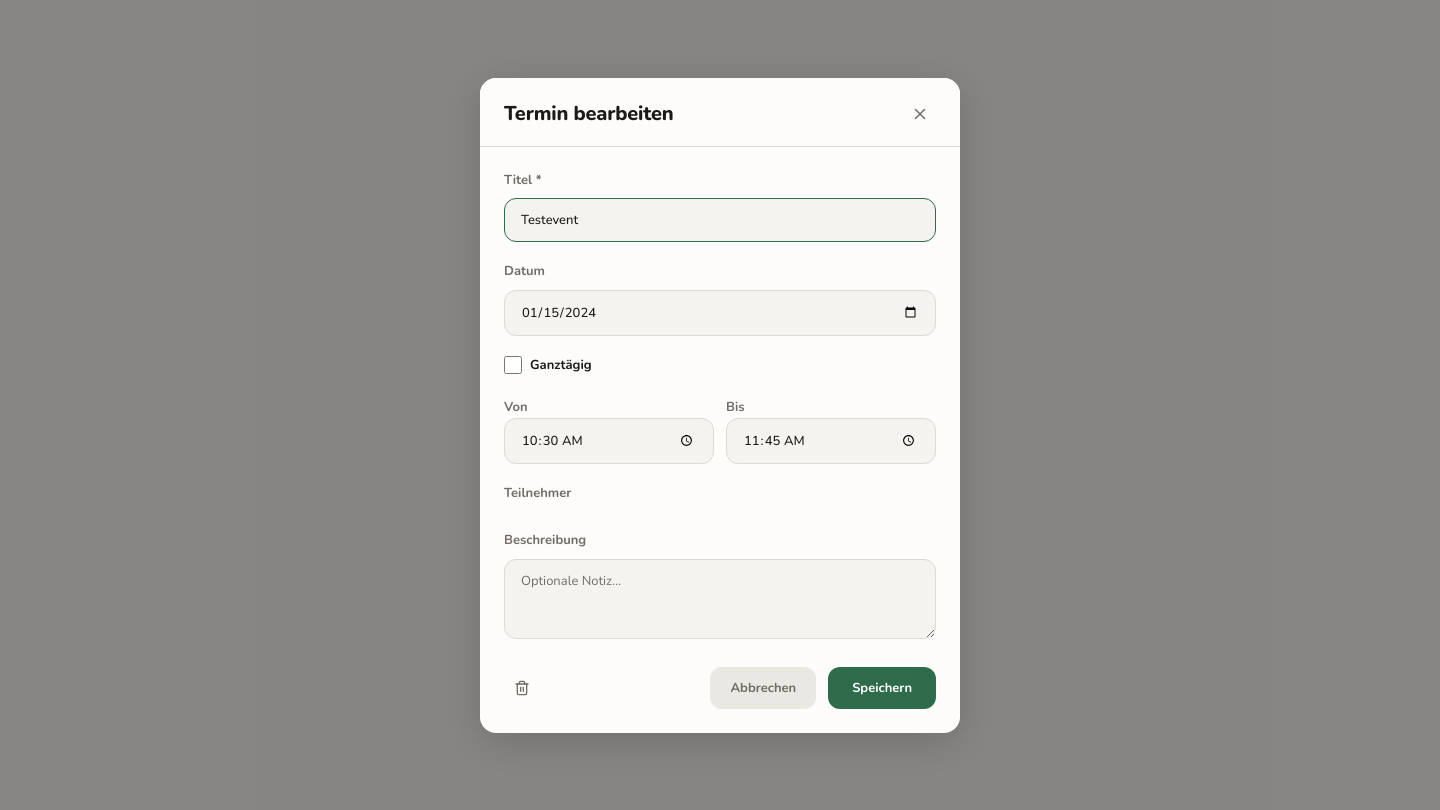
Scenario: EventFormModal — Termin löschen › löscht nichts und zeigt den Löschen-Button wieder, wenn die Bestätigung abgebrochen wird
Click the button named "Termin löschen" at (522, 688), box [504,670,540,706]
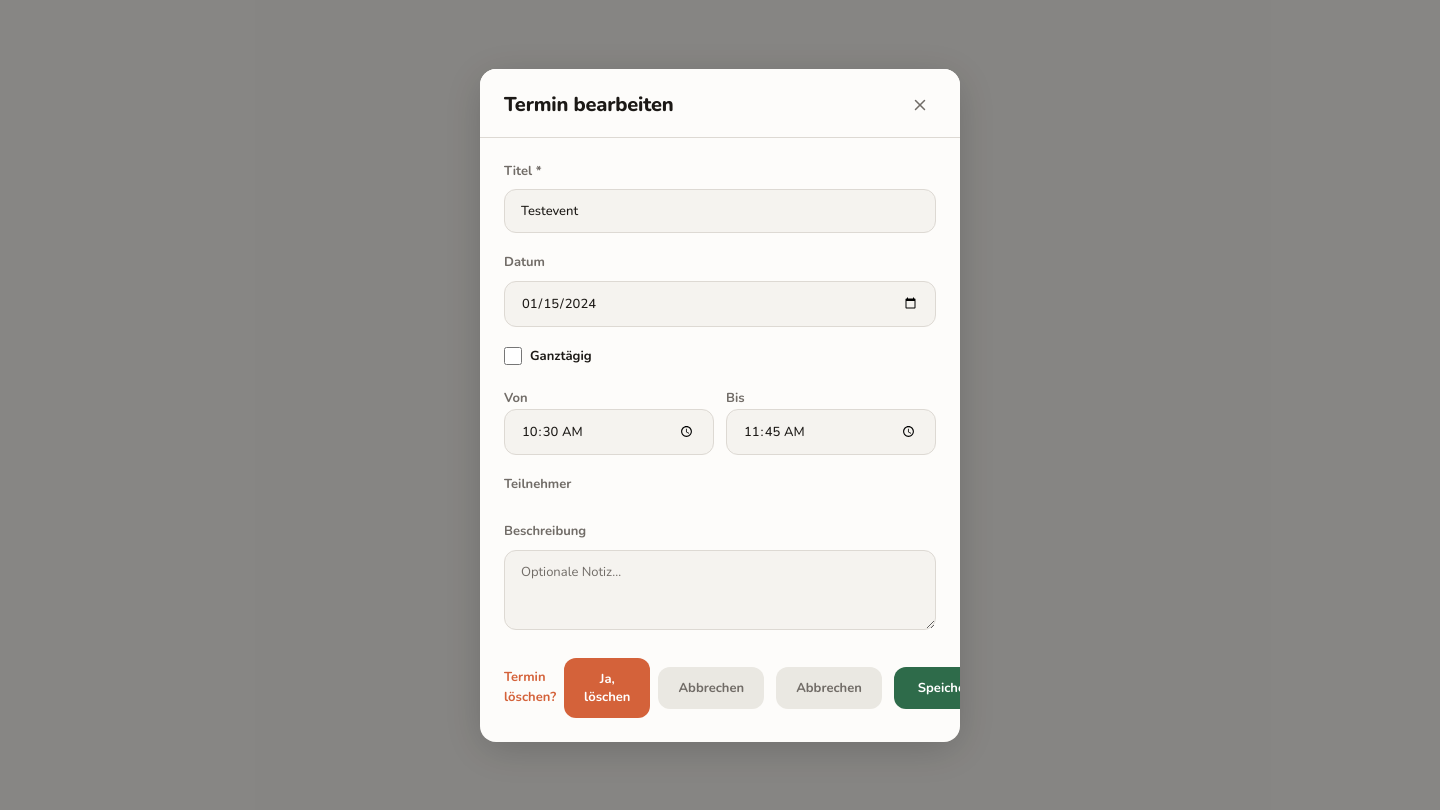
Click the button with aria-label "Löschen abbrechen" at (711, 688), box [658,666,764,708]
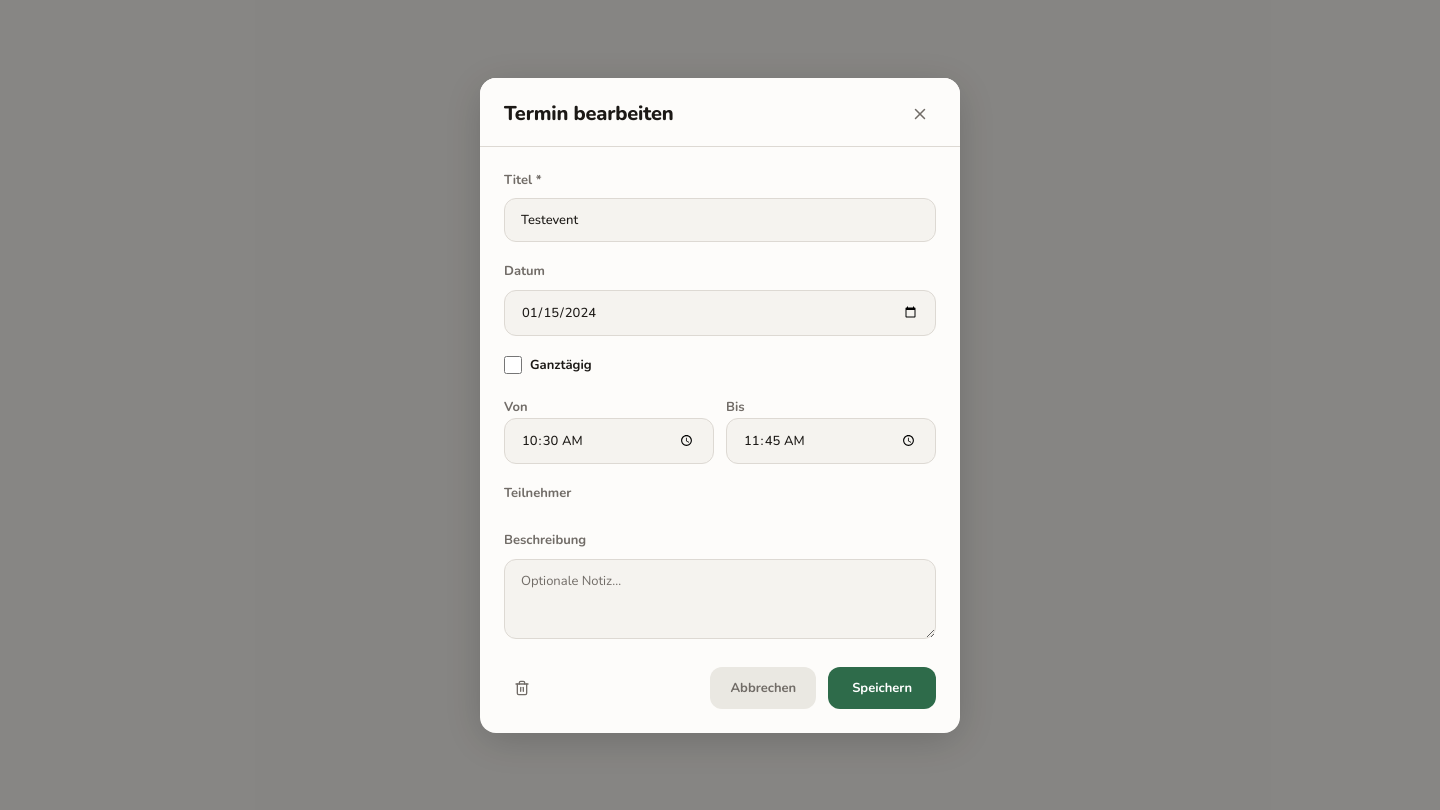
Check: the button named "Termin löschen" is shown, box [504,670,540,706]
